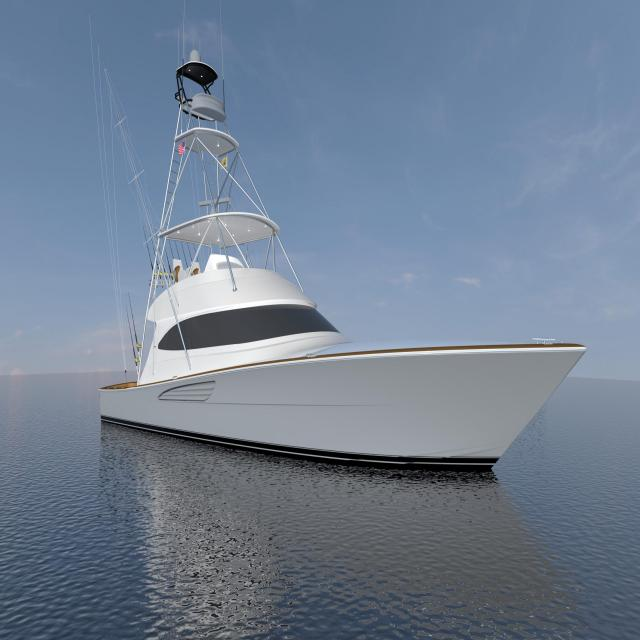boat: (84, 42, 595, 524)
